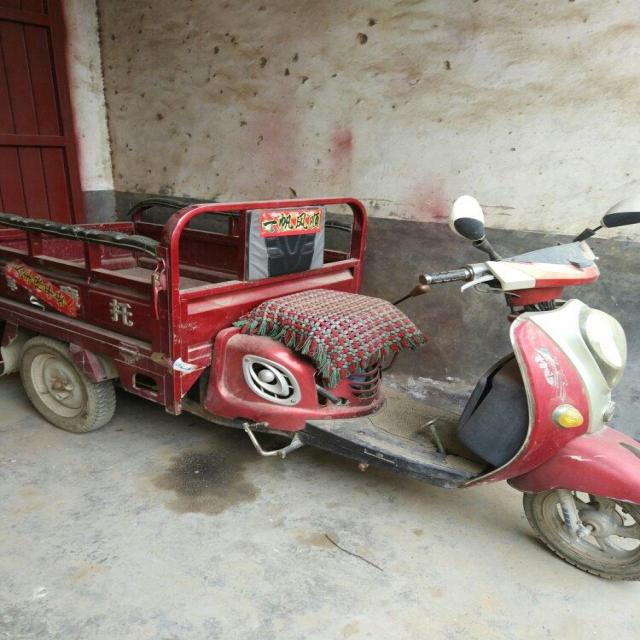tricycle: (0, 196, 639, 581)
